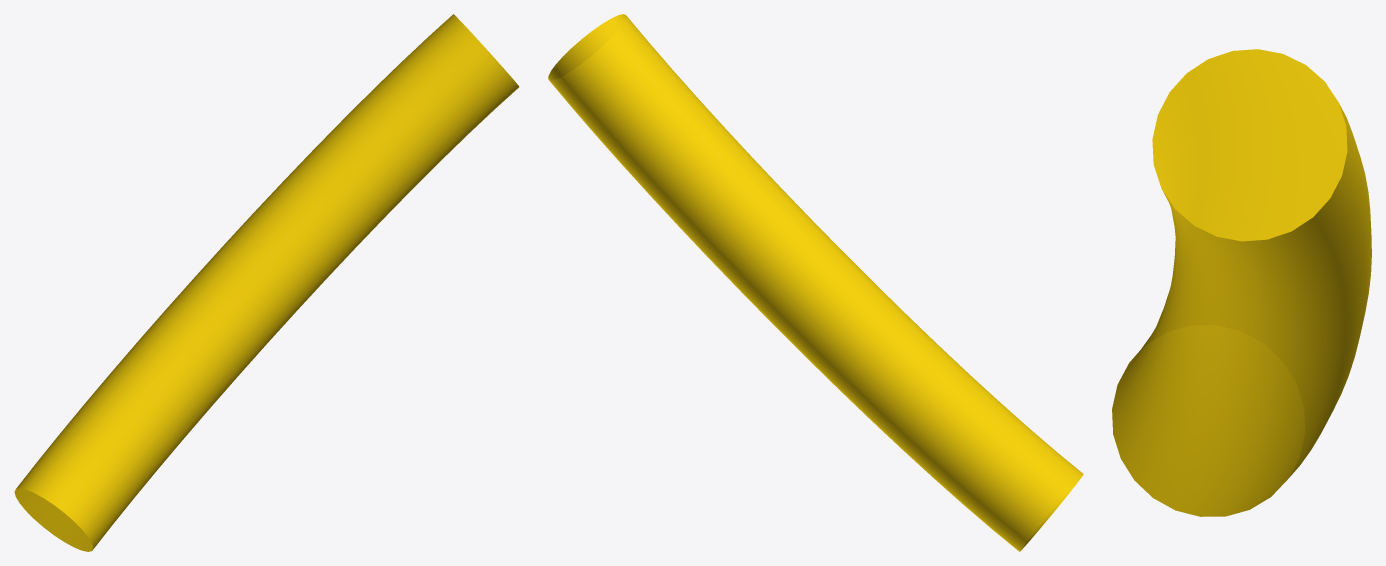
File: Event_421115418_track_150.fbx
The picture shows the model from 3 angles, left to right: view 1: azimuth 30°, elevation 25°; view 2: azimuth 150°, elevation 25°; view 3: azimuth 270°, elevation 25°; orthographic projection. The views are drawn at different scales.
Parts seen in each view (by area): view 1: Model; view 2: Model; view 3: Model.
Boxes of the visible parts, left/top/right/bottom form: Model: left=14, top=14, right=519, bottom=551; Model: left=548, top=14, right=1083, bottom=551; Model: left=1112, top=49, right=1371, bottom=516.
Size of the model in its own units: 0.232 by 0.1908 by 0.0528.
